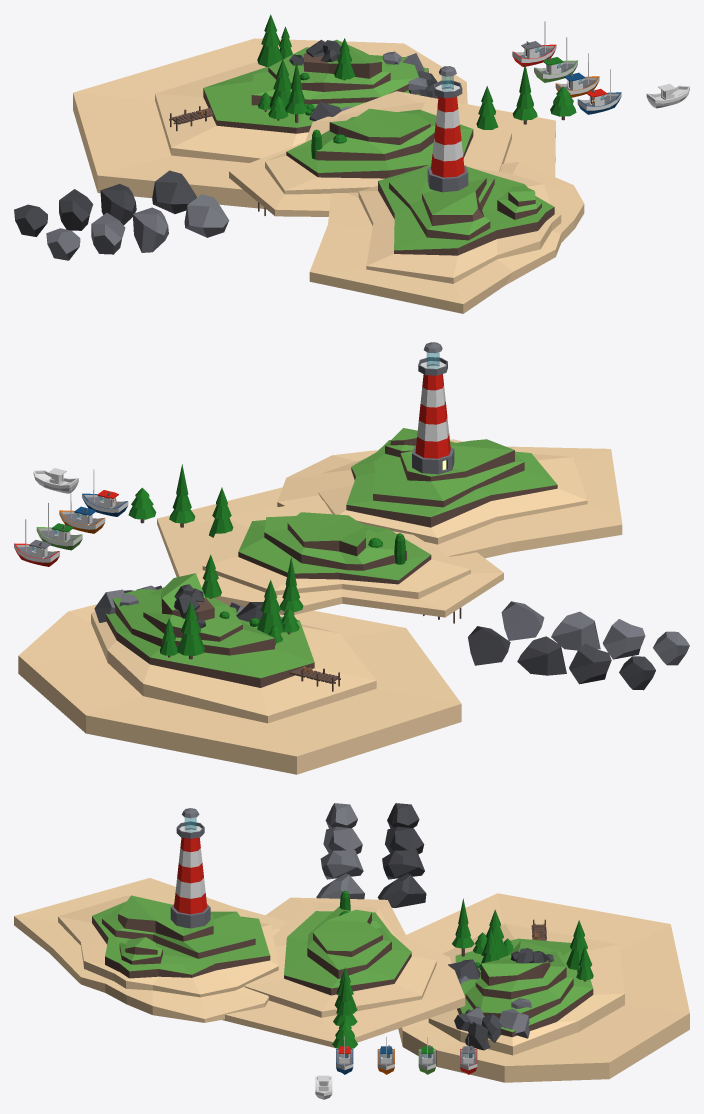
Rendered from ISLAND3.fbx.
3 views of the same model, one above another, from view 1: azimuth 30°, elevation 25°; view 2: azimuth 150°, elevation 25°; view 3: azimuth 270°, elevation 25° (orthographic). The views are drawn at different scales.
Visible parts, largest first — view 1: ile2, ILE2, Plan, PHARE ROUGE, caillou1, caillou1.002, caillou2, caillou3, caillou2.004, caillou3.005, caillou4, caillou4.006 (+12 smaller); view 2: ile2, ILE2, Plan, PHARE ROUGE, caillou2.004, caillou2, caillou1, caillou1.002, caillou3.005, caillou3, sapin1.002, caillou4 (+9 smaller); view 3: ile2, ILE2, Plan, PHARE ROUGE, caillou1.002, caillou2, caillou2.004, caillou3.005, caillou3, caillou1, caillou4, caillou4.006 (+10 smaller).
Part boxes in pixels (x1=…): ile2: x1=73, y1=38, x2=467, y2=208; ILE2: x1=309, y1=162, x2=584, y2=313; Plan: x1=229, y1=91, x2=555, y2=216; PHARE ROUGE: x1=427, y1=66, x2=468, y2=192; caillou1: x1=184, y1=194, x2=229, y2=237; caillou1.002: x1=152, y1=170, x2=196, y2=213; caillou2: x1=132, y1=207, x2=168, y2=252; caillou3: x1=91, y1=212, x2=125, y2=254; caillou2.004: x1=100, y1=184, x2=136, y2=225; caillou3.005: x1=59, y1=189, x2=93, y2=230; caillou4: x1=46, y1=228, x2=80, y2=260; caillou4.006: x1=14, y1=204, x2=47, y2=236; ile2: x1=18, y1=573, x2=461, y2=774; ILE2: x1=277, y1=428, x2=622, y2=558; Plan: x1=157, y1=487, x2=503, y2=617; PHARE ROUGE: x1=412, y1=342, x2=454, y2=474; caillou2.004: x1=517, y1=636, x2=566, y2=675; caillou2: x1=551, y1=611, x2=600, y2=650; caillou1: x1=501, y1=601, x2=544, y2=640; caillou1.002: x1=468, y1=626, x2=510, y2=665; caillou3.005: x1=569, y1=643, x2=611, y2=684; caillou3: x1=603, y1=619, x2=645, y2=659; sapin1.002: x1=177, y1=601, x2=204, y2=659; caillou4: x1=653, y1=631, x2=689, y2=665; ile2: x1=398, y1=893, x2=689, y2=1082; ILE2: x1=14, y1=878, x2=288, y2=1022; Plan: x1=222, y1=897, x2=465, y2=1047; PHARE ROUGE: x1=170, y1=808, x2=210, y2=928; caillou1.002: x1=377, y1=873, x2=426, y2=907; caillou2: x1=320, y1=850, x2=363, y2=879; caillou2.004: x1=382, y1=850, x2=424, y2=879; caillou3.005: x1=385, y1=826, x2=424, y2=854; caillou3: x1=323, y1=826, x2=362, y2=854; caillou1: x1=316, y1=873, x2=364, y2=899; caillou4: x1=325, y1=803, x2=357, y2=828; caillou4.006: x1=387, y1=803, x2=419, y2=828.
Size of the model in its own units: 3392 by 1012 by 3291.
